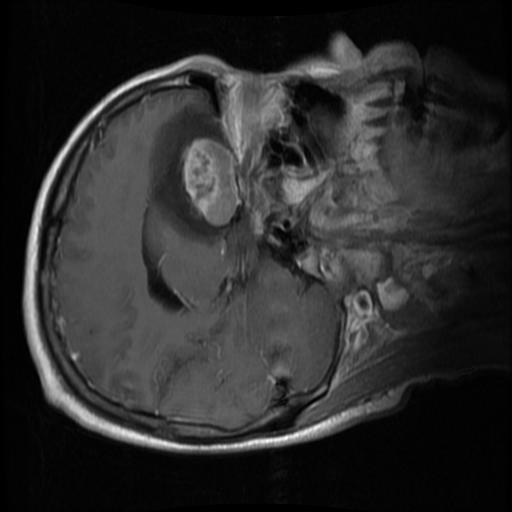meningioma: (179, 136, 240, 227)
